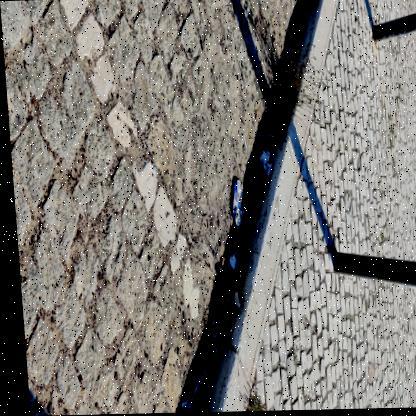Metal: (230, 180, 240, 228), (234, 215, 237, 225)
Paper: (257, 151, 268, 176), (225, 253, 232, 270), (229, 293, 236, 310)
Plastic: (179, 349, 215, 413)
Waste: (240, 135, 245, 151), (213, 290, 218, 300), (237, 200, 241, 212), (187, 365, 192, 374), (209, 346, 212, 360), (217, 256, 221, 266), (175, 401, 180, 408), (229, 251, 234, 257), (212, 312, 217, 318), (237, 197, 240, 204), (239, 184, 240, 193)
